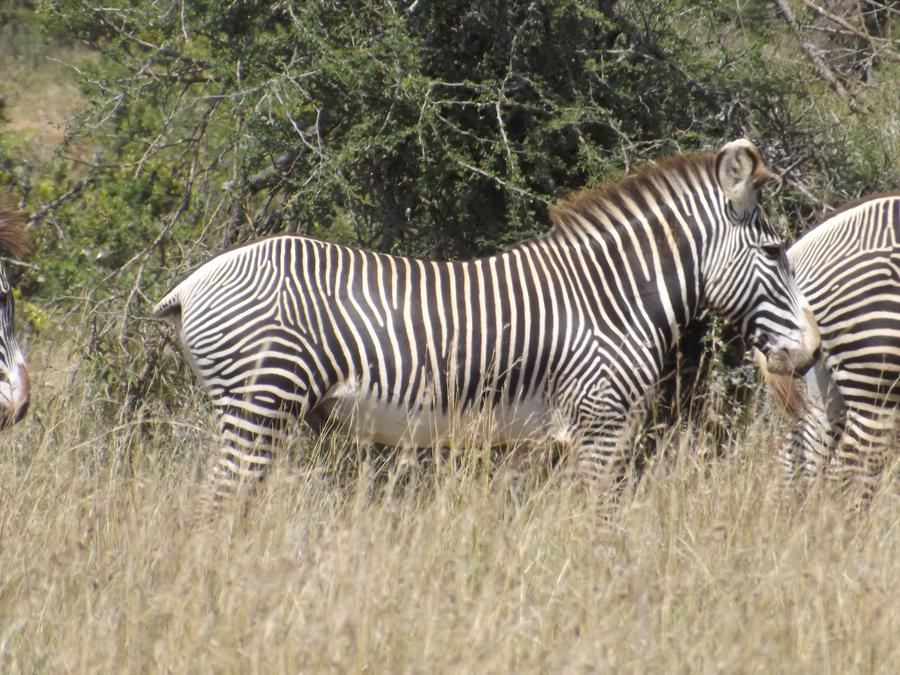zebra_grevys: (171, 218, 651, 434)
